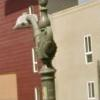Statue: (13, 7, 65, 59)
